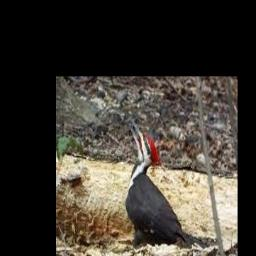Woodpecker: (125, 120, 209, 248)
